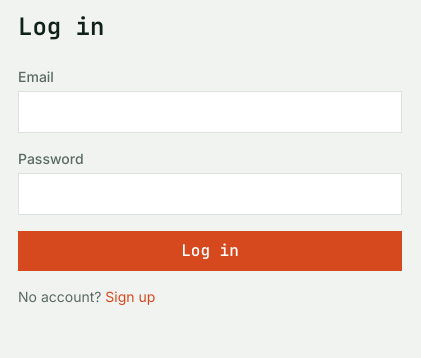
Test case: Login › shows the server's error message on a wrong-password rejection
This screenshot has width=421, height=358.
Type "user@example.com" into the field labelled "Email" at (210, 112), box left=18, top=91, right=402, bottom=133
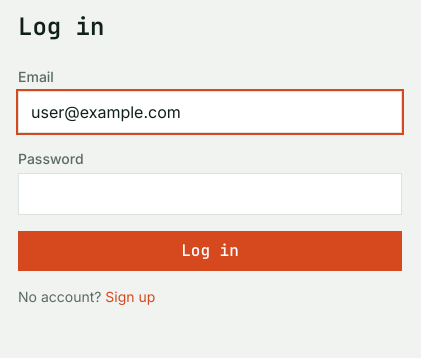
Type "wrongpassword" into the password field labelled "Password" at (210, 194), box left=18, top=173, right=402, bottom=215
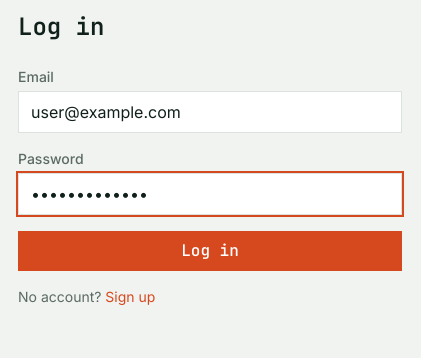
Click the button "Log in" at (210, 251), box left=18, top=231, right=402, bottom=271
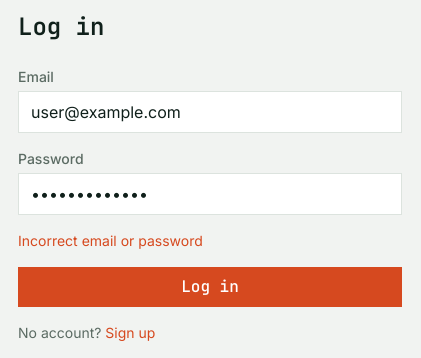
Expected: the text "Incorrect email or password" is shown, left=18, top=232, right=203, bottom=249
